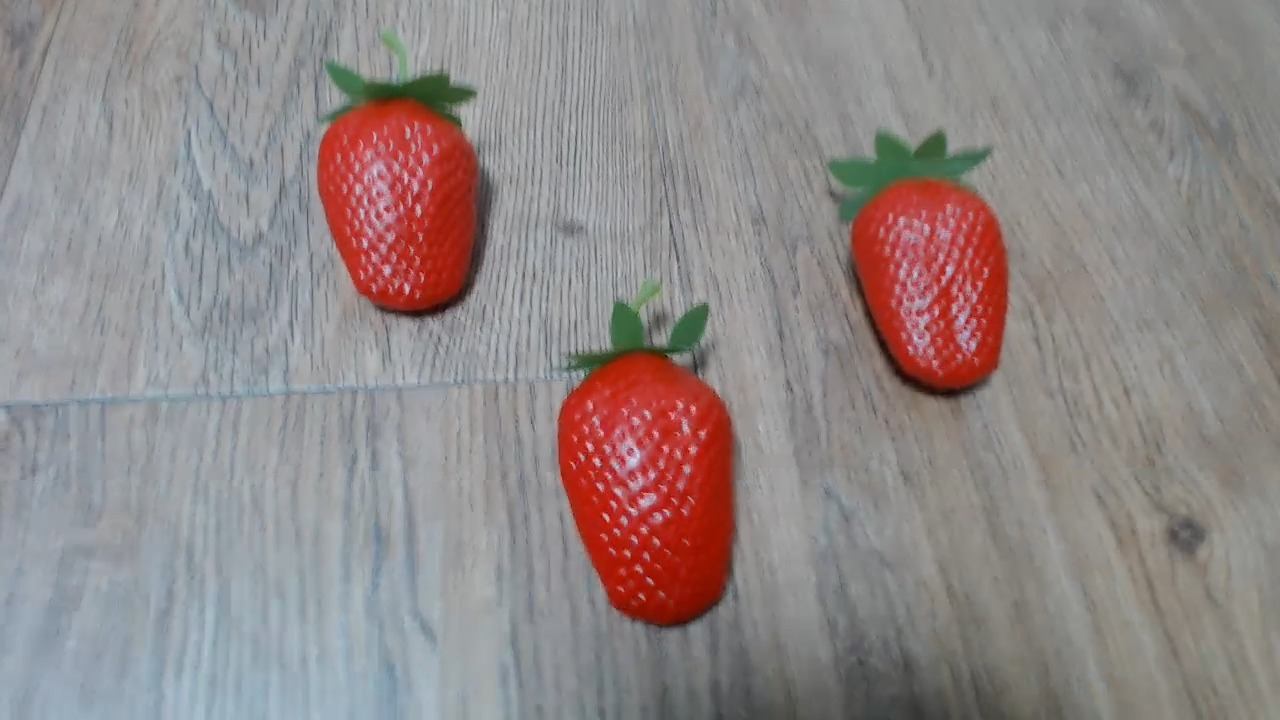strawberry: (530, 324, 762, 631), (824, 134, 1022, 396), (313, 54, 499, 318)
